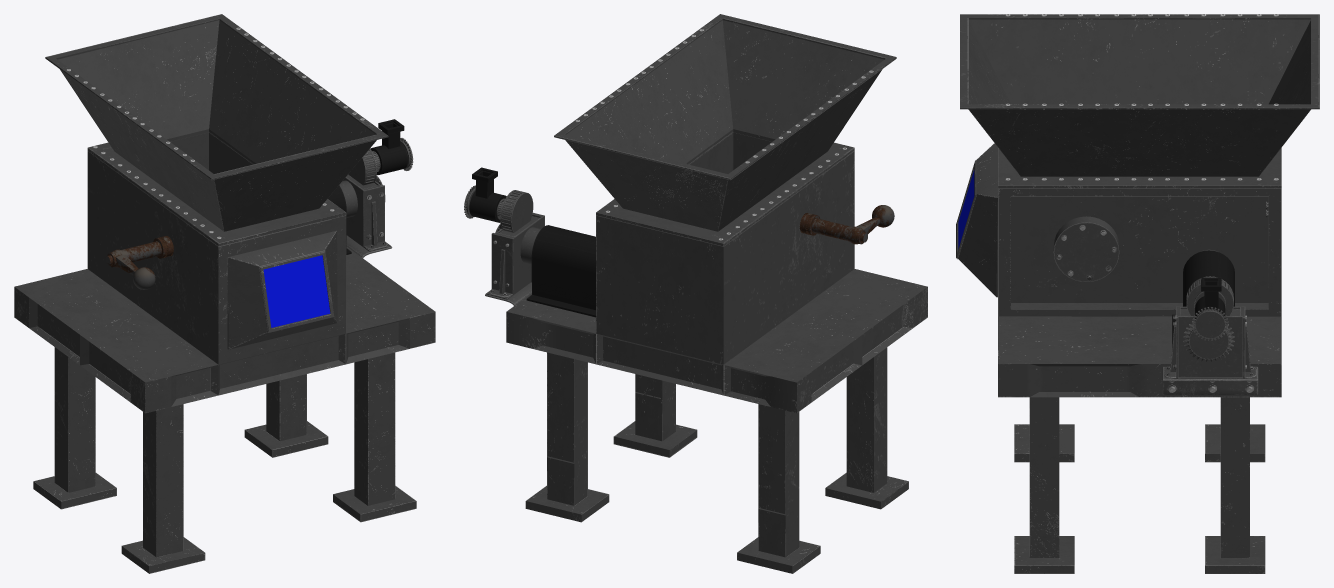
The model's file is broyeur.fbx.
The picture shows the model from 3 angles, left to right: view 1: azimuth 30°, elevation 25°; view 2: azimuth 150°, elevation 25°; view 3: azimuth 270°, elevation 25°; orthographic projection. The views are drawn at different scales.
Visible parts, largest first — view 1: dessus_moteur, poignet; view 2: dessus_moteur, poignet; view 3: dessus_moteur.
Boxes of the visible parts, x1,y1,x2,y2 form: dessus_moteur: (14, 14, 435, 573); poignet: (105, 236, 173, 289); dessus_moteur: (464, 14, 927, 573); poignet: (799, 205, 894, 244); dessus_moteur: (956, 14, 1319, 573).
Bounding box in the file's own units: 167 × 180 × 135.
Materials: 16 (15 with a texture image).
